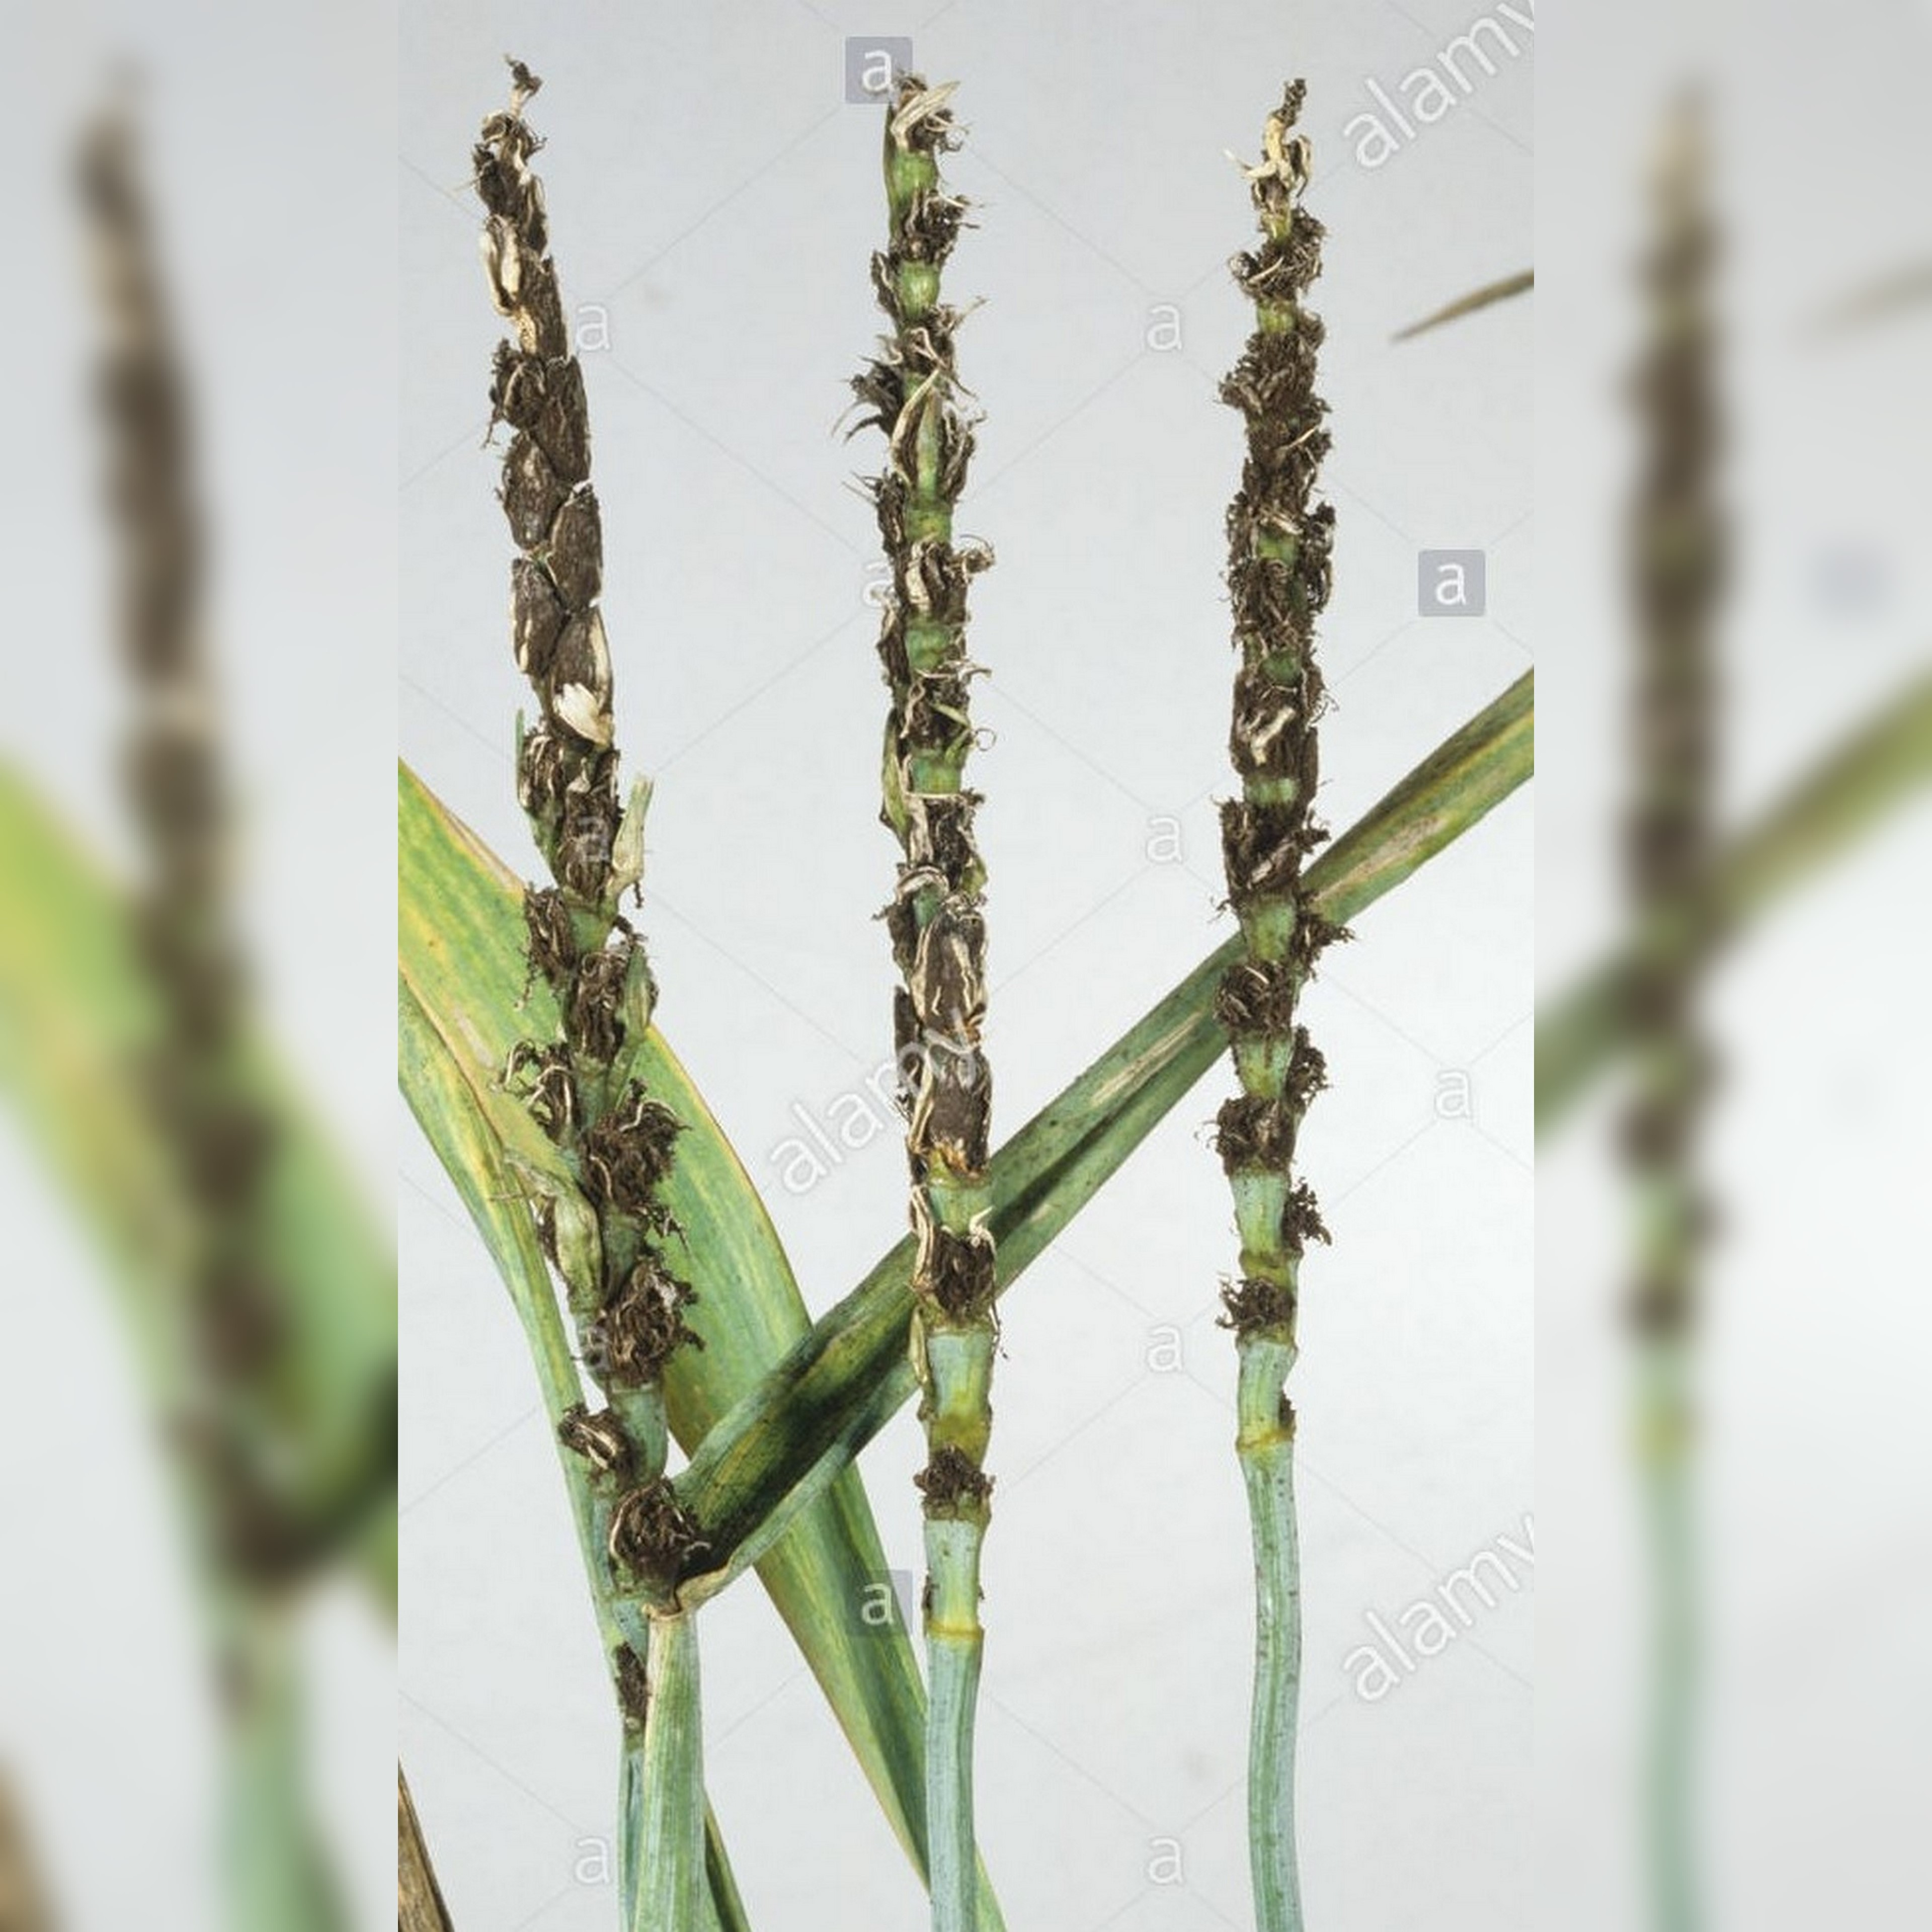Wheat Loose Smut: (430, 87, 1391, 1376)
